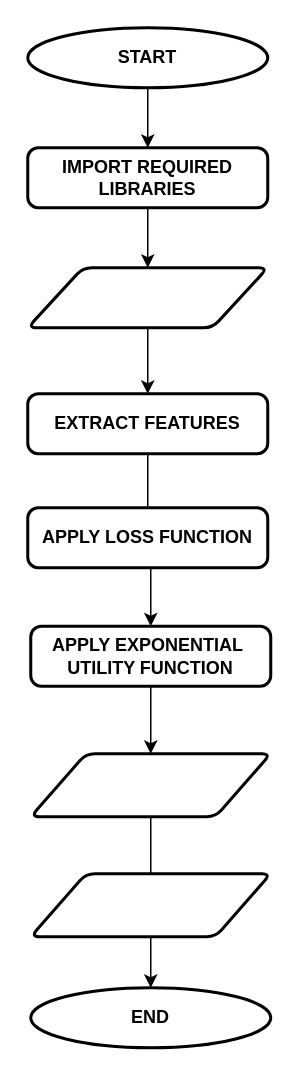
This 297x1074 diagram has some shape labels left out. Each missing label, with the centre of its shape:
"READ DATA FROM EXCEL FILE" goes at pixel 147 297.
"RESULT IS STORED IN CSV FILE" goes at pixel 150 785.
"SHOW THE UTILITY CURVE" goes at pixel 150 905.
